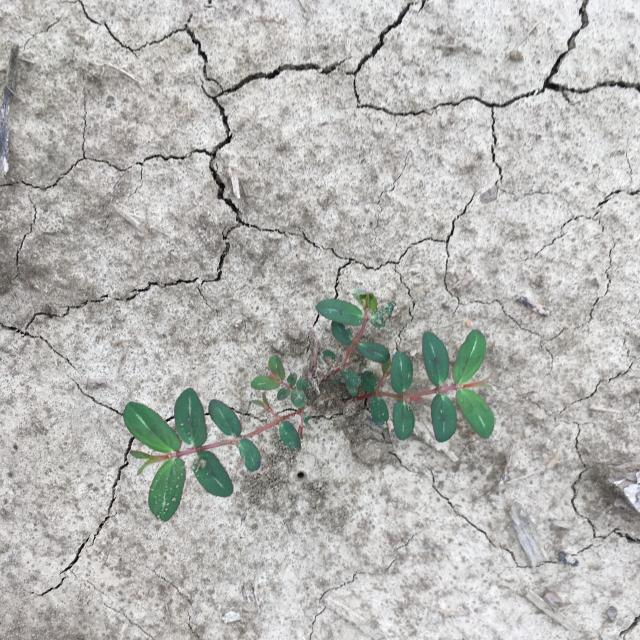SpottedSpurge: (123, 289, 495, 522)
